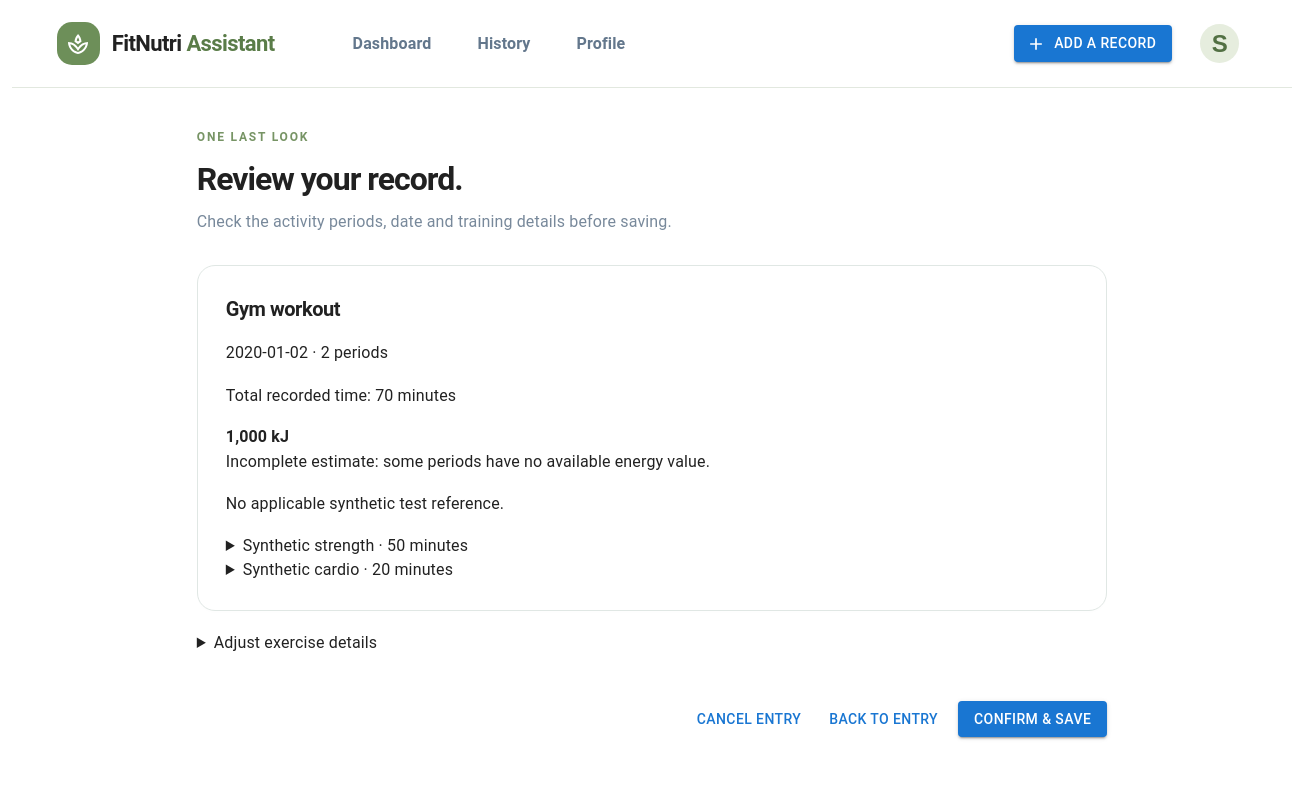
keeps all input frozen for a missing period proof and recovers with GET only
expect the heading "Review your record." is shown: met, box [197,160,462,198]
Click the button "Confirm & save" at (1033, 719), box [958,701,1107,737]
(page scrolled)
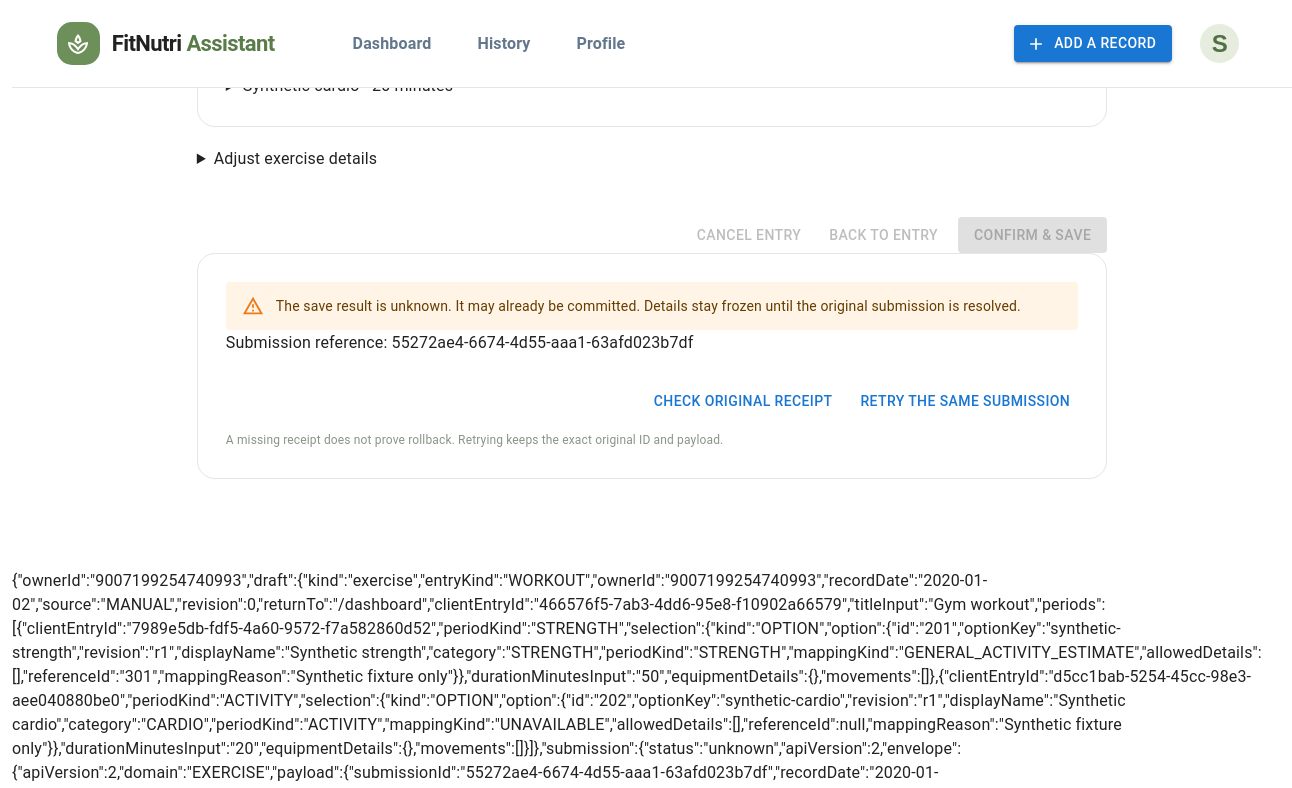
expect the button "Check original receipt" is shown: met
Click the button "Check original receipt" at (743, 401), box [646,383,840,419]
(page scrolled)
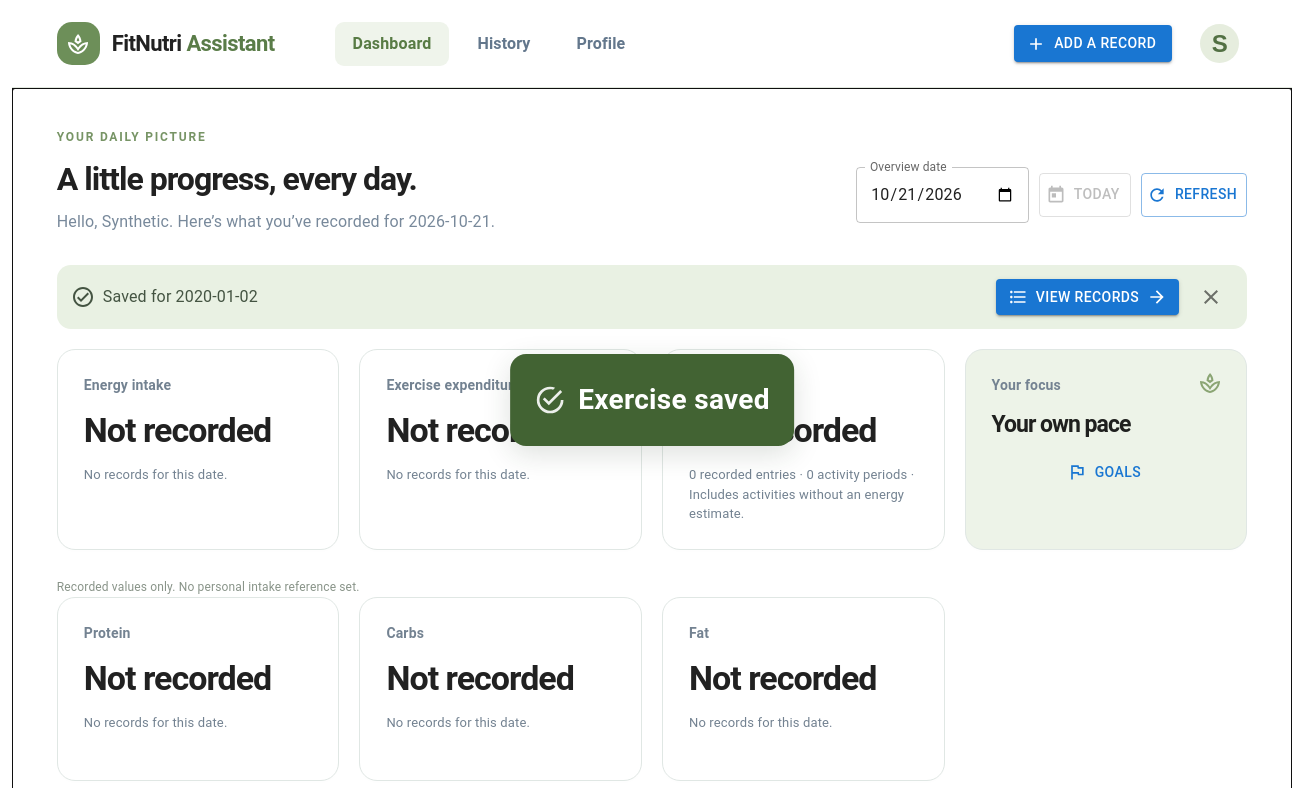
expect the heading "A little progress, every day." is shown: met, box [57,160,417,198]
